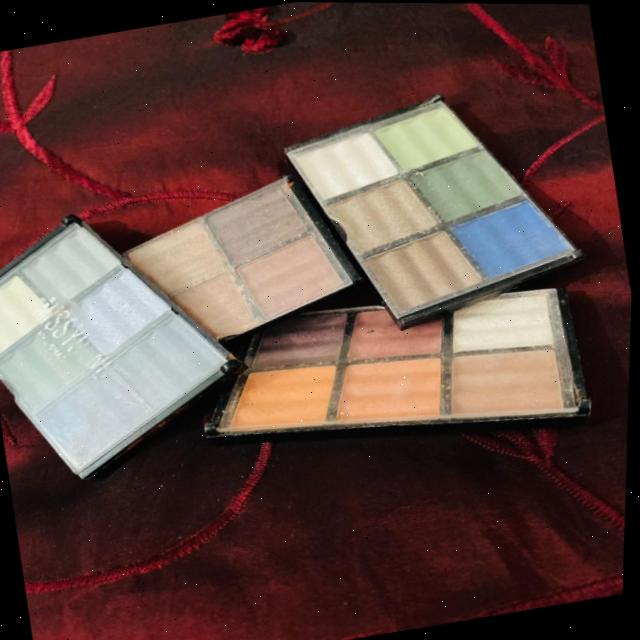eye shade: (0, 73, 633, 530)
